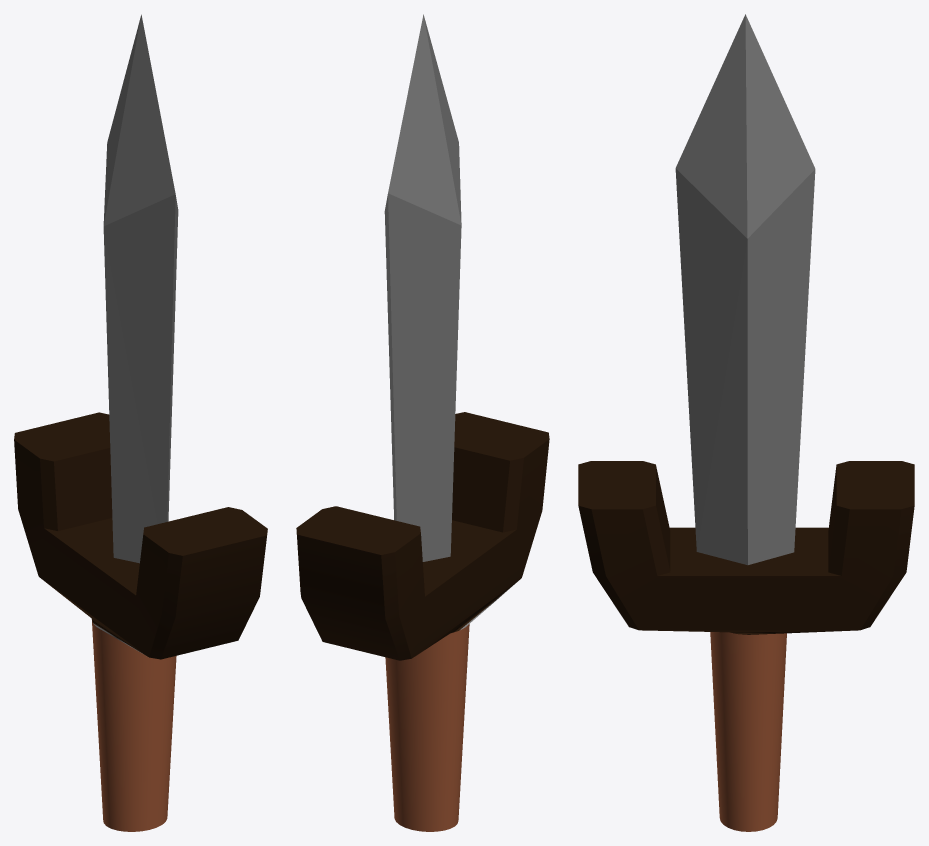
The model's file is Kokiri_Sword.fbx.
3 renders of one model, left to right at view 1: azimuth 30°, elevation 25°; view 2: azimuth 150°, elevation 25°; view 3: azimuth 270°, elevation 25°, orthographic.
Parts seen in each view (by area): view 1: Box001; view 2: Box001; view 3: Box001.
Part boxes in pixels (x1,y1,x2,y2): Box001: [14, 14, 267, 831]; Box001: [296, 14, 549, 831]; Box001: [578, 14, 914, 831].
Size of the model in its own units: 31 by 241 by 91.09.
